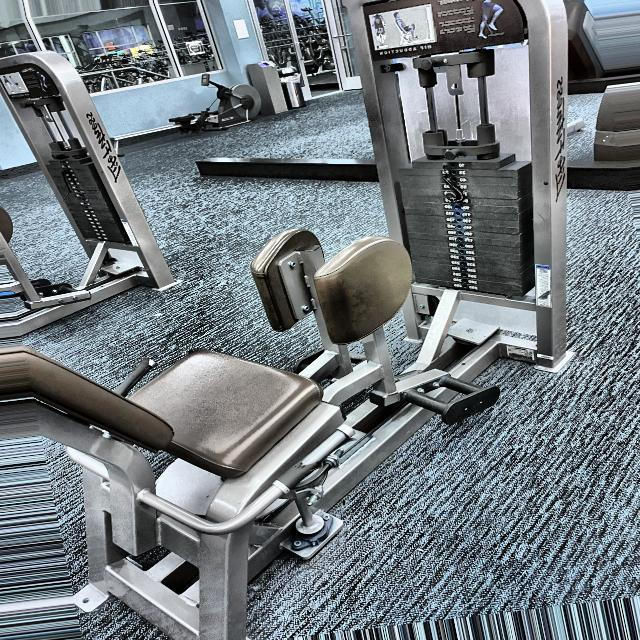hip_adduction_machine: (212, 214, 512, 490), (362, 2, 536, 58), (375, 41, 436, 58)
